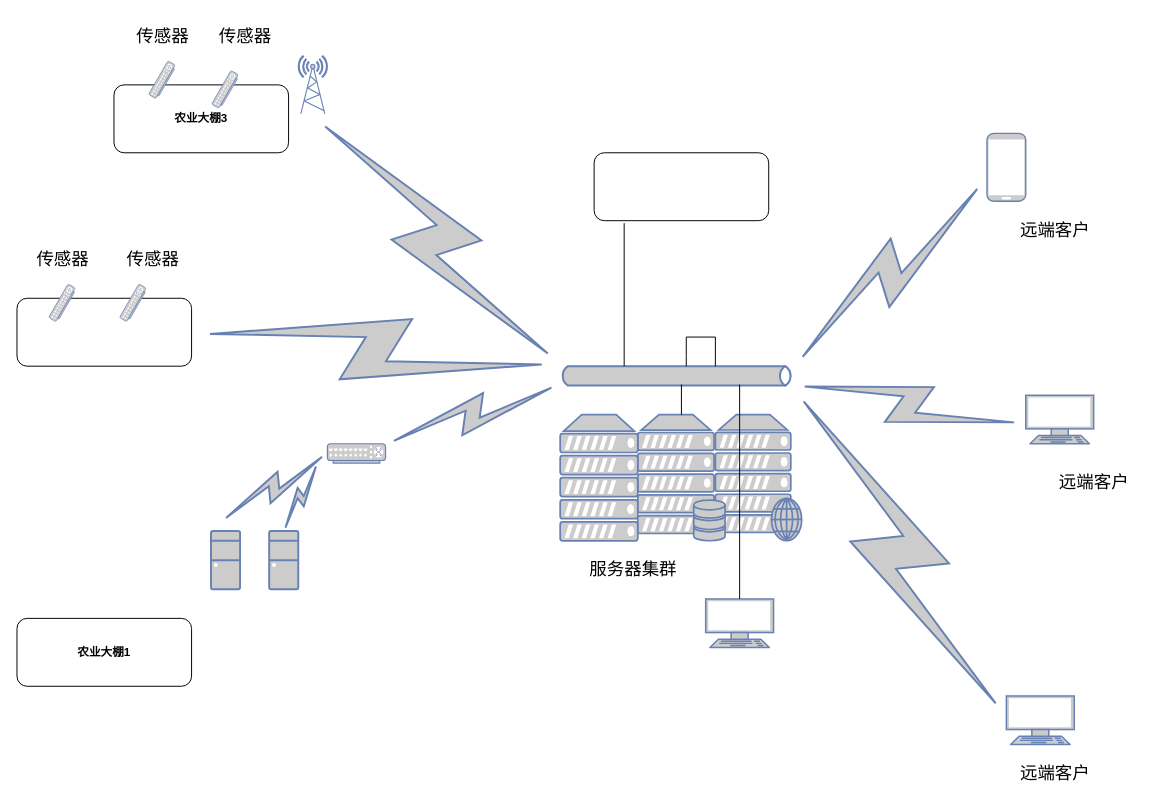
Some shapes in this 1159 by 809 pixel diagram are drawn without their labels. Each missing label, with the box of its shape:
农业大棚2: (16, 297, 192, 366)
指挥中心大屏幕: (593, 152, 769, 221)
